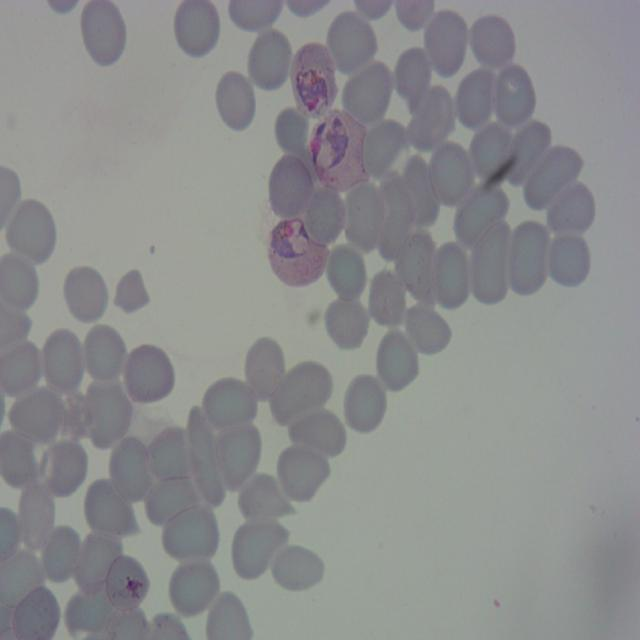leukocyte: (268, 359, 335, 423), (524, 144, 585, 211), (468, 220, 515, 305), (187, 405, 224, 507), (213, 415, 262, 492), (340, 60, 395, 128), (453, 182, 511, 246), (72, 528, 125, 598), (502, 119, 553, 190), (393, 225, 440, 302), (229, 520, 289, 580), (163, 502, 219, 566), (398, 151, 441, 233), (122, 340, 172, 410), (406, 85, 458, 152), (83, 377, 132, 448), (5, 198, 56, 265), (325, 10, 376, 76), (422, 8, 470, 78), (84, 478, 137, 541), (267, 152, 315, 221), (275, 446, 331, 505), (428, 140, 476, 208), (168, 556, 220, 618), (40, 326, 86, 396), (108, 434, 154, 504), (377, 171, 412, 263), (509, 220, 551, 296), (8, 387, 65, 443), (467, 123, 516, 188), (287, 407, 348, 459), (490, 61, 536, 129), (246, 27, 294, 92), (202, 376, 259, 430), (238, 473, 295, 526), (428, 242, 472, 310), (374, 328, 420, 393), (62, 264, 110, 326), (343, 184, 386, 253), (81, 322, 128, 385), (16, 478, 56, 552), (63, 582, 117, 636), (402, 298, 454, 354), (213, 68, 257, 134), (358, 118, 408, 176), (545, 229, 592, 290), (40, 436, 86, 498), (453, 68, 498, 131), (546, 182, 597, 237), (147, 428, 197, 484), (244, 336, 287, 401), (468, 13, 516, 71), (106, 552, 152, 612), (144, 477, 200, 526), (344, 372, 387, 435), (324, 294, 370, 352), (39, 525, 83, 584), (392, 46, 433, 108), (324, 244, 367, 302), (368, 268, 408, 330), (302, 187, 345, 242), (272, 546, 325, 590), (112, 266, 152, 318), (275, 106, 309, 157)
schizont: (308, 112, 369, 194), (268, 218, 330, 286), (290, 41, 338, 118)
